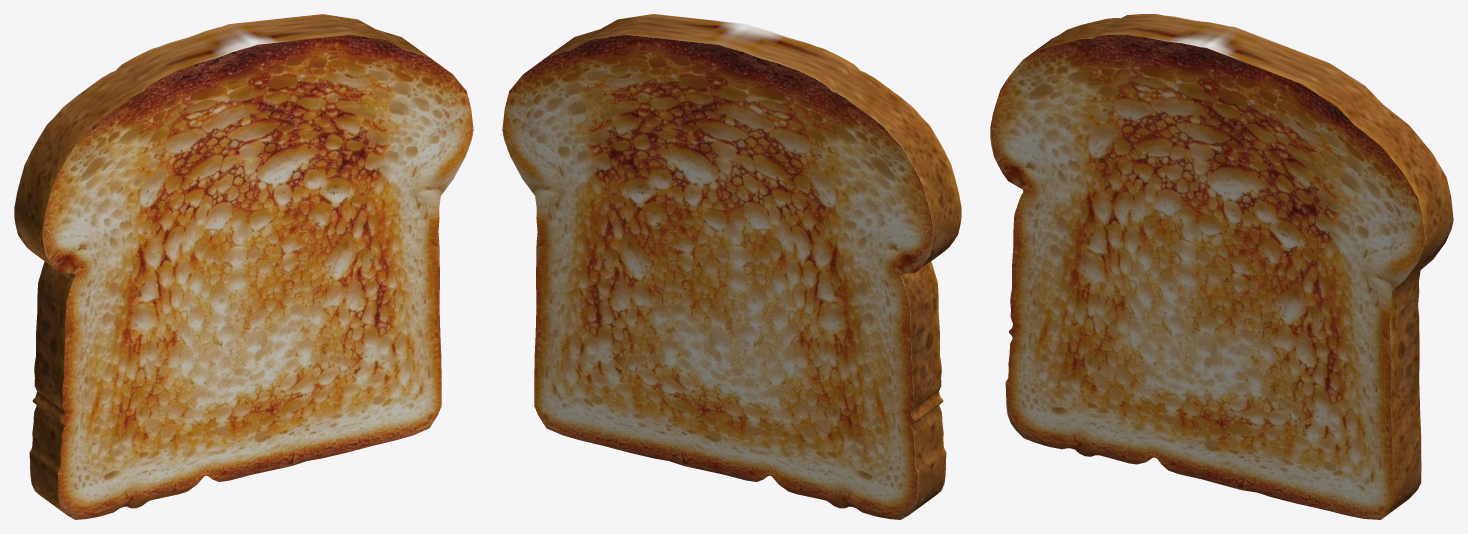
Rendered from toast3d.obj.
3 renders of one model, left to right at view 1: azimuth 30°, elevation 25°; view 2: azimuth 150°, elevation 25°; view 3: azimuth 330°, elevation 25°, orthographic.
Visible parts, largest first — view 1: Plane; view 2: Plane; view 3: Plane.
Boxes of the visible parts, x1,y1,x2,y2 form: Plane: (14, 14, 473, 519); Plane: (502, 14, 961, 519); Plane: (990, 14, 1453, 519).
Size of the model in its own units: 1.8 by 1.73 by 0.2045.
Materials: 1 (1 with a texture image).
